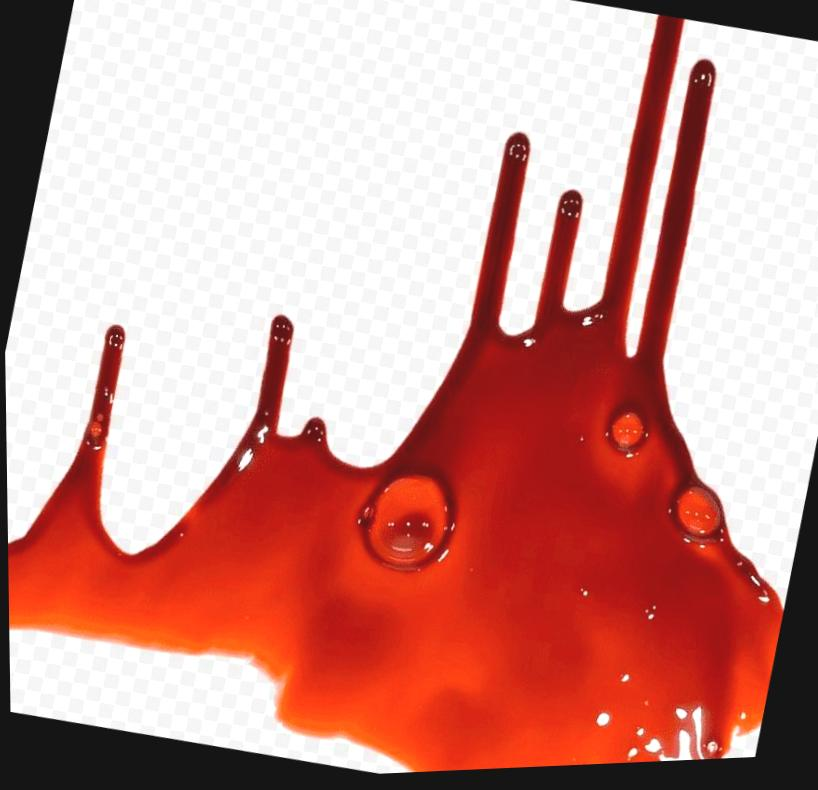Fire: (6, 21, 782, 776)
